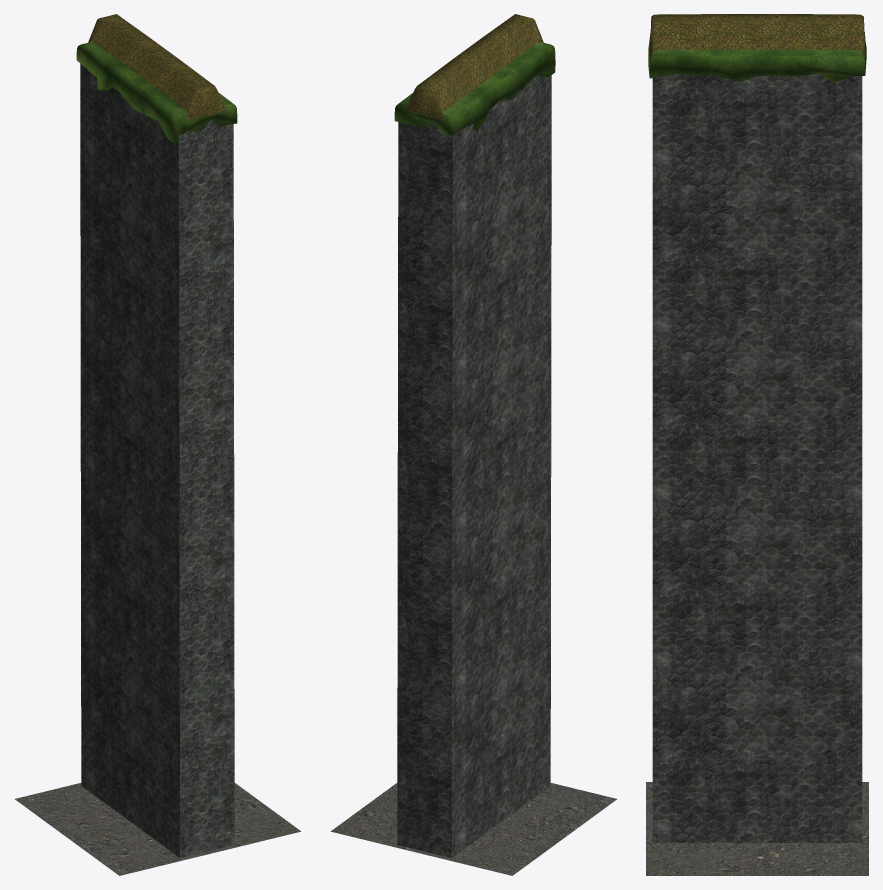
File: predio_08.gltf
3 views of the same model, side by side, from view 1: azimuth 30°, elevation 25°; view 2: azimuth 150°, elevation 25°; view 3: azimuth 270°, elevation 25° (orthographic). The views are drawn at different scales.
Parts seen in each view (by area): view 1: edificio_08_V, chao; view 2: edificio_08_V, chao; view 3: edificio_08_V, chao.
Boxes of the visible parts, x1,y1,x2,y2 form: edificio_08_V: [76, 14, 237, 857]; chao: [15, 783, 300, 875]; edificio_08_V: [394, 14, 555, 857]; chao: [330, 783, 616, 875]; edificio_08_V: [648, 14, 866, 842]; chao: [646, 782, 868, 875].
Bounding box in the file's own units: 50 × 201 × 50.
4 materials, 4 textured.
